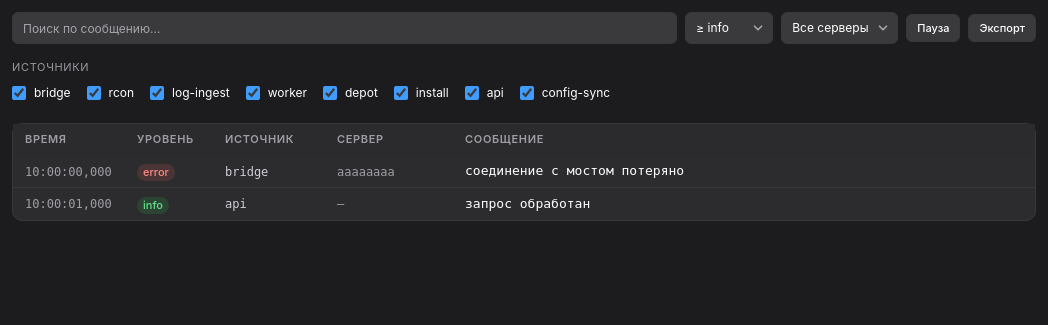
LogList › separates «nothing found» under a filter from «nothing recorded yet»
Expected: the text "запрос обработан" is shown, [453,188,1035,220]
Type "ничего такого" into the search field named "Поиск по записям".
click(345, 28); type("ничего такого")  # box [12,12,677,44]
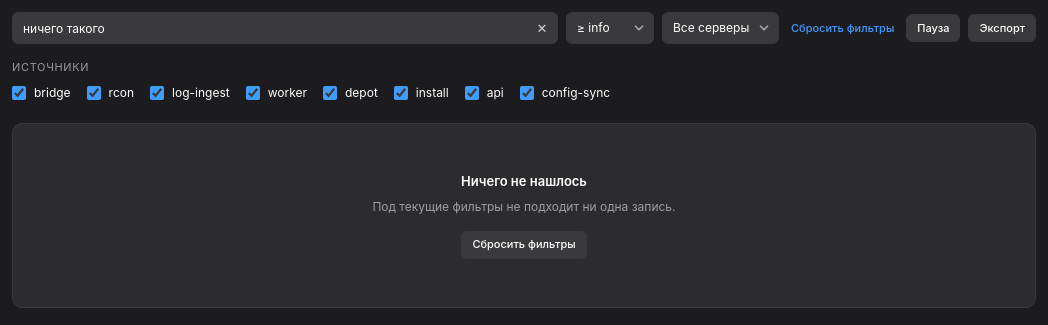
Expected: the text "Ничего не нашлось" is shown, [461,172,587,191]
Click the button "Сбросить фильтры" in the row of "Экспорт".
click(843, 28)  # box [787,14,898,42]
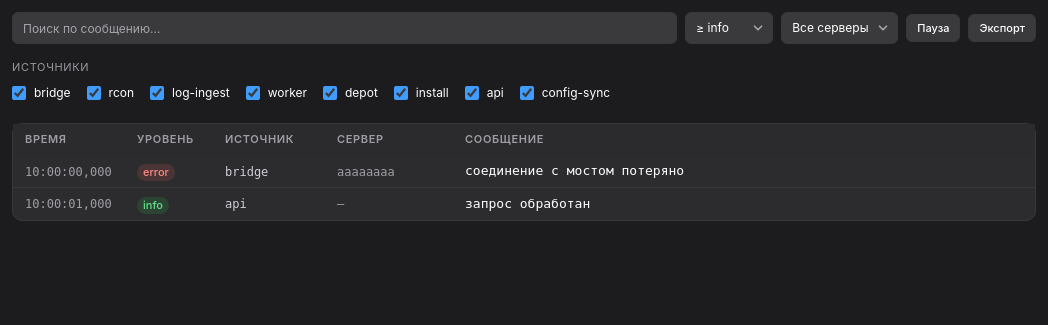
Expected: the text "запрос обработан" is shown, [453,188,1035,220]
